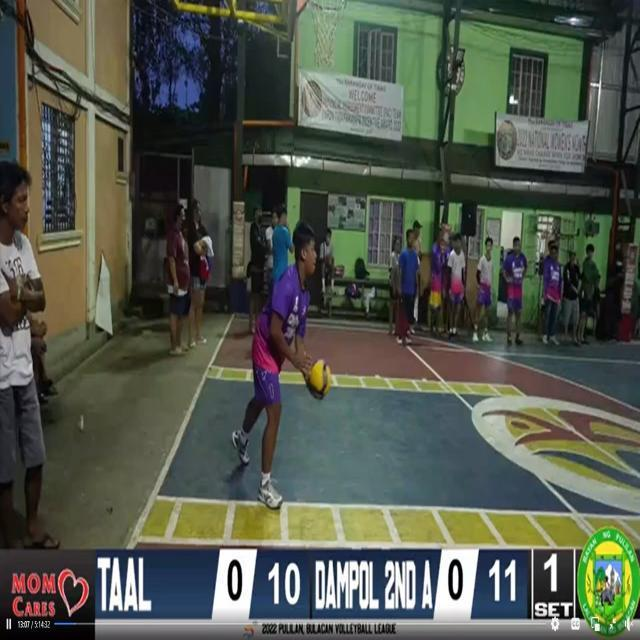volleyball: (306, 358, 332, 399)
